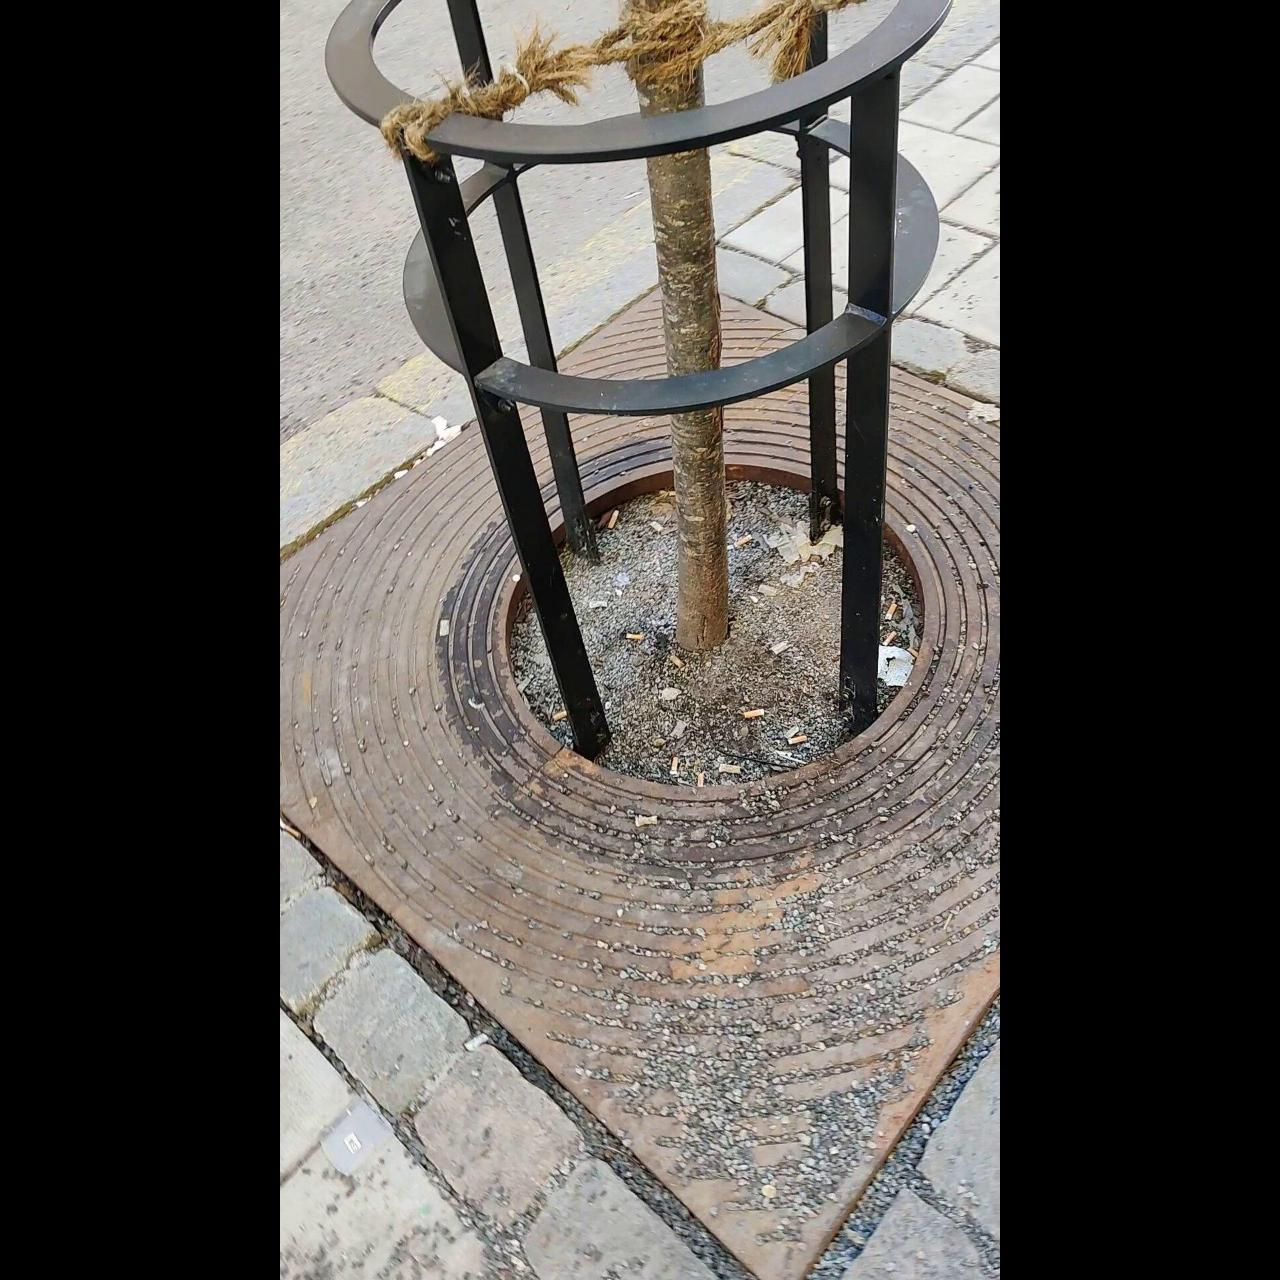cigarettes_butts: (280, 818, 306, 839), (734, 535, 755, 551), (695, 768, 707, 792), (607, 509, 619, 533), (622, 629, 647, 640), (787, 735, 810, 745), (668, 654, 685, 668), (885, 604, 897, 622), (744, 710, 765, 720), (885, 631, 894, 649), (670, 757, 678, 779), (554, 712, 567, 721)
others: (440, 619, 450, 636)
